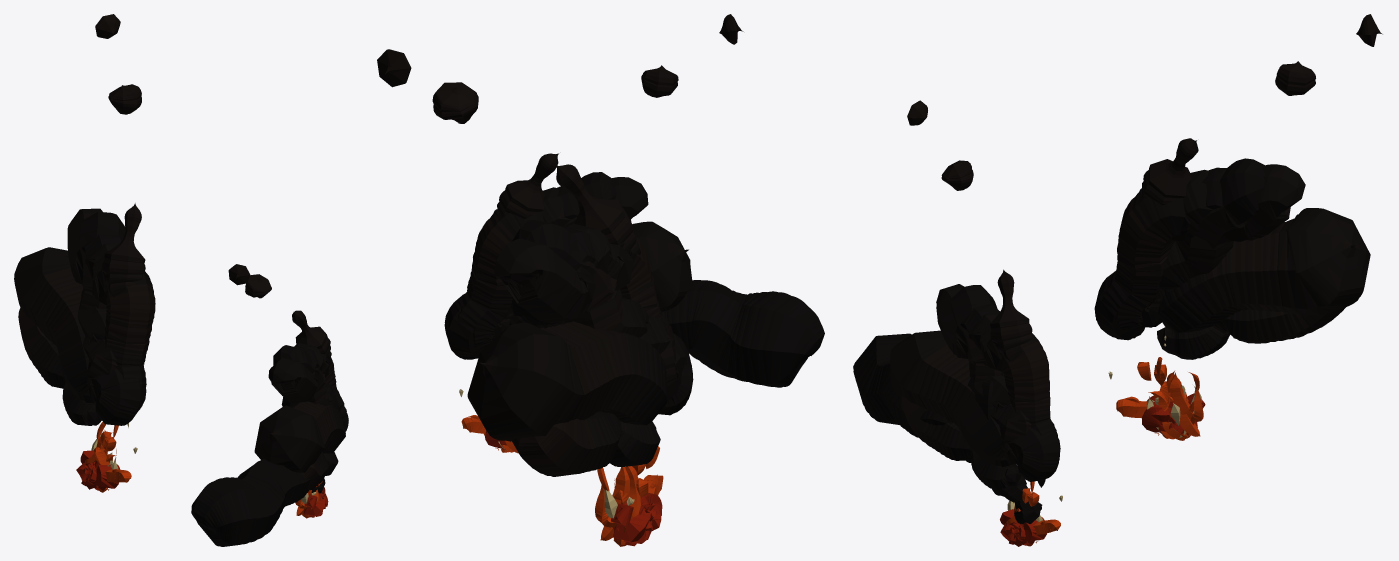
The model's file is Hack-bg_destructed_-fireanim8-1layer.fbx.
The picture shows the model from 3 angles, left to right: view 1: azimuth 30°, elevation 25°; view 2: azimuth 150°, elevation 25°; view 3: azimuth 270°, elevation 25°; orthographic projection. The views are drawn at different scales.
Parts seen in each view (by area): view 1: AsmokeT5; view 2: AsmokeT5; view 3: AsmokeT5.
Part boxes in pixels (box(x1,y1,x2,y2)): AsmokeT5: box(14, 14, 348, 546); AsmokeT5: box(377, 14, 824, 546); AsmokeT5: box(853, 14, 1382, 546).
Bounding box in the file's own units: 35.37 × 63.24 × 61.81.
